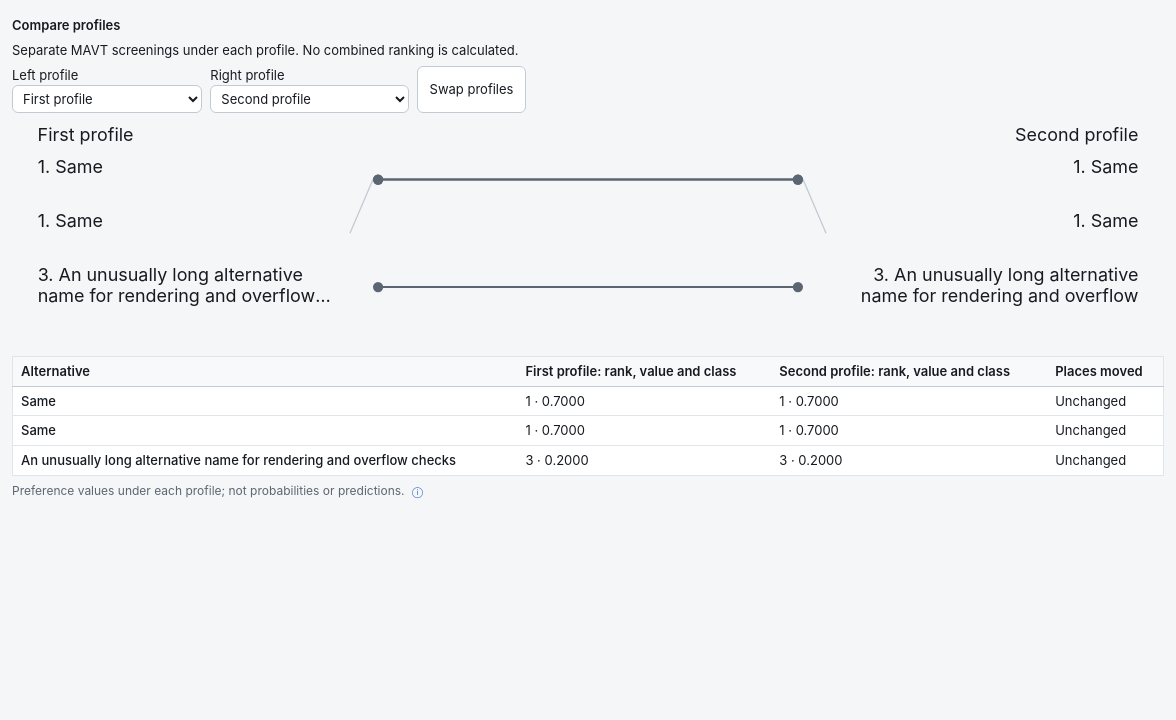
swaps the ordered pair, immediately hides the old reading, and keeps source data unchanged
Click the button "Swap profiles". click: coordinates (471, 89)
box: [416,66,526,112]
Wait 125 ms
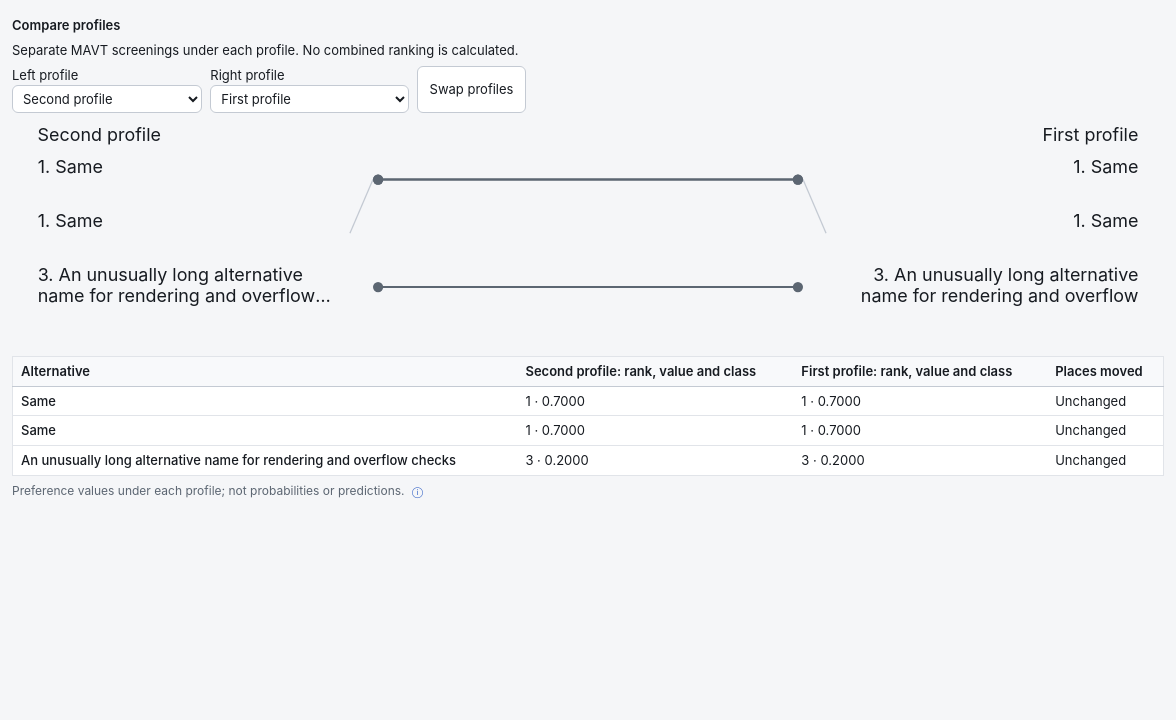
Expected: the dropdown labelled "Left profile" shows "Second profile", [12,84,202,112]
Expected: the dropdown labelled "Right profile" shows "First profile", [210,84,408,112]
